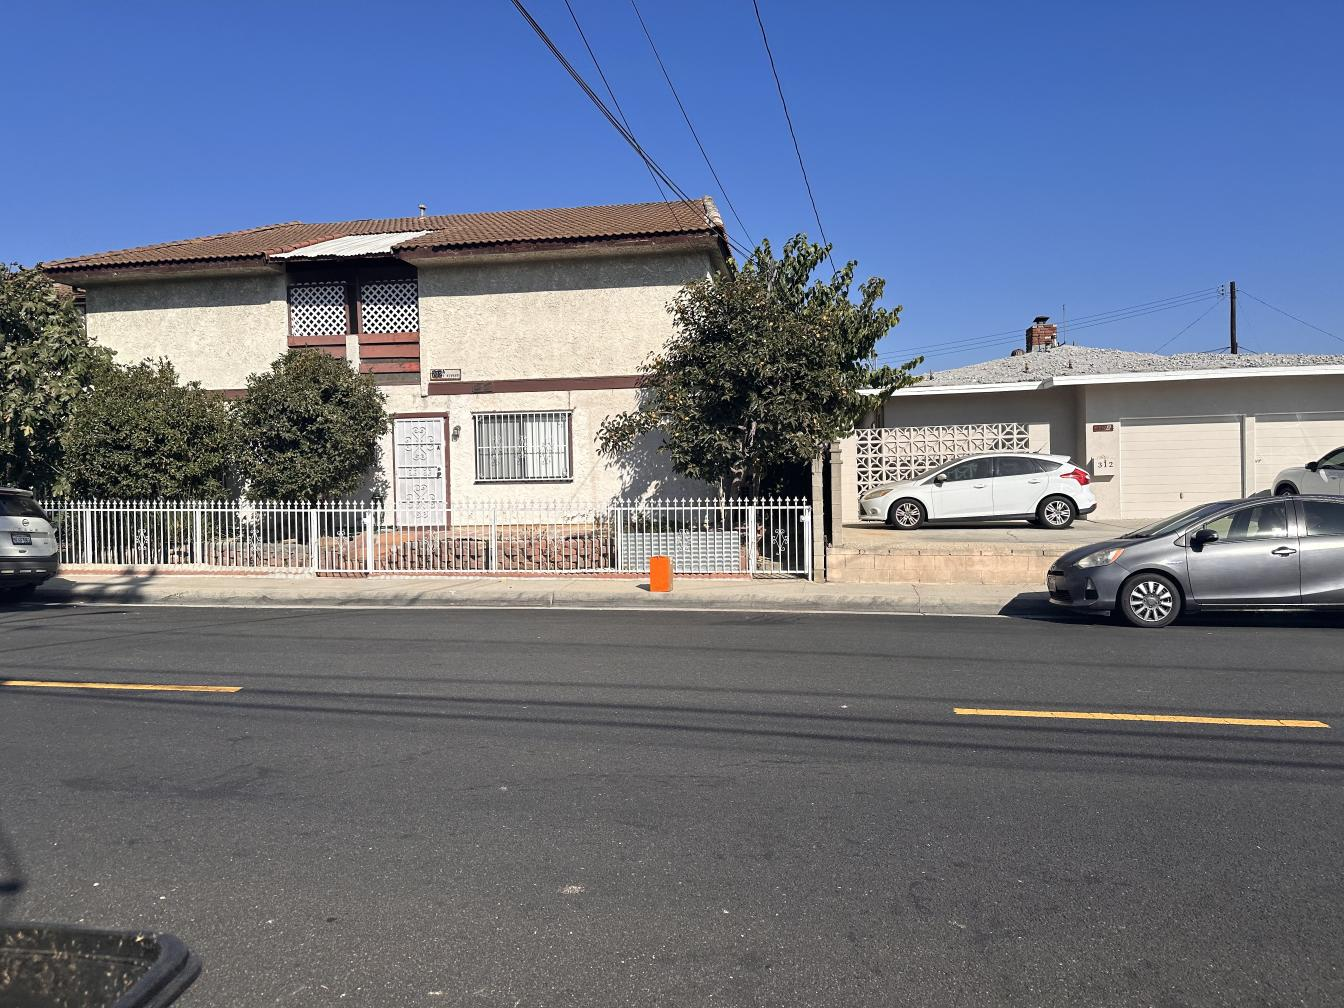curbs-laRr: (95, 586, 647, 610), (651, 593, 1041, 617)
orange box: (650, 555, 675, 593)
